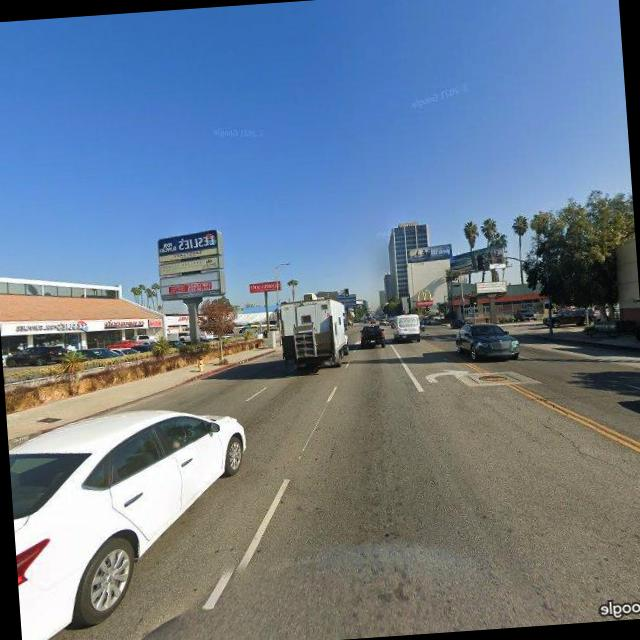pothole: (542, 416, 612, 467)
